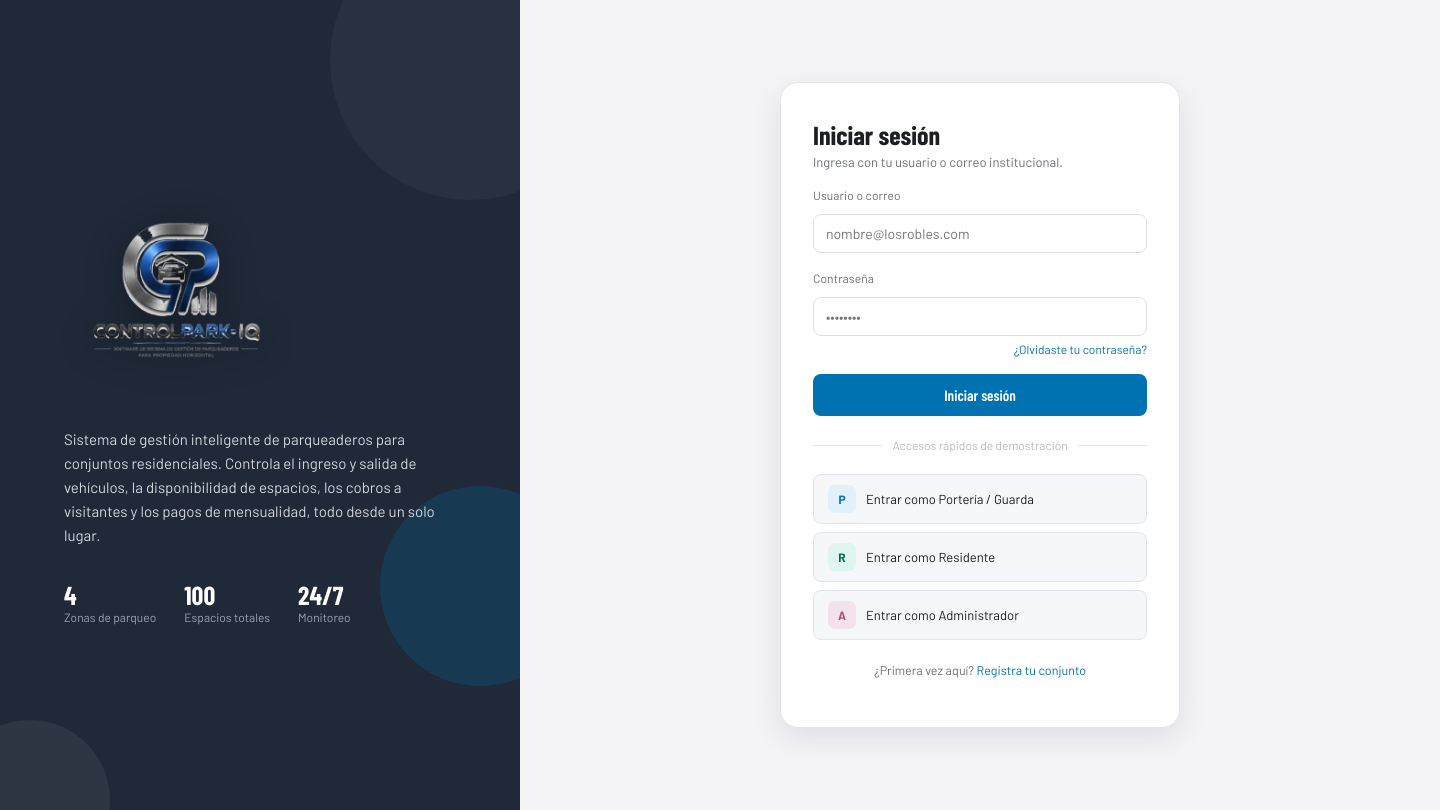
Test: acceso › entra con usuario y contraseña válidos
The image size is (1440, 810).
In the field labelled "Usuario o correo": (980, 234) [813, 214, 1147, 253], type "maria.torres"
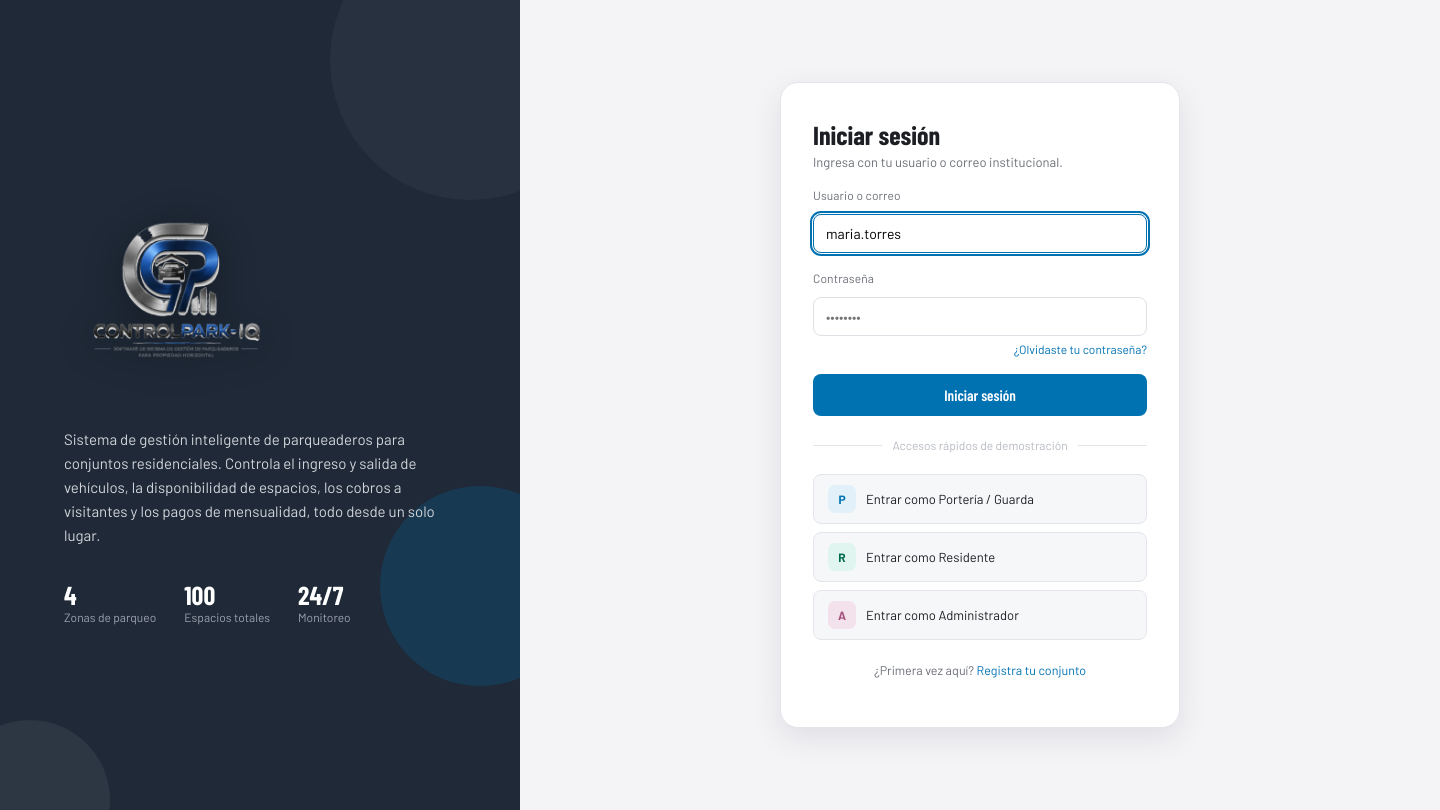
In the password field labelled "Contraseña": (980, 317) [813, 297, 1147, 336], type "demo123"
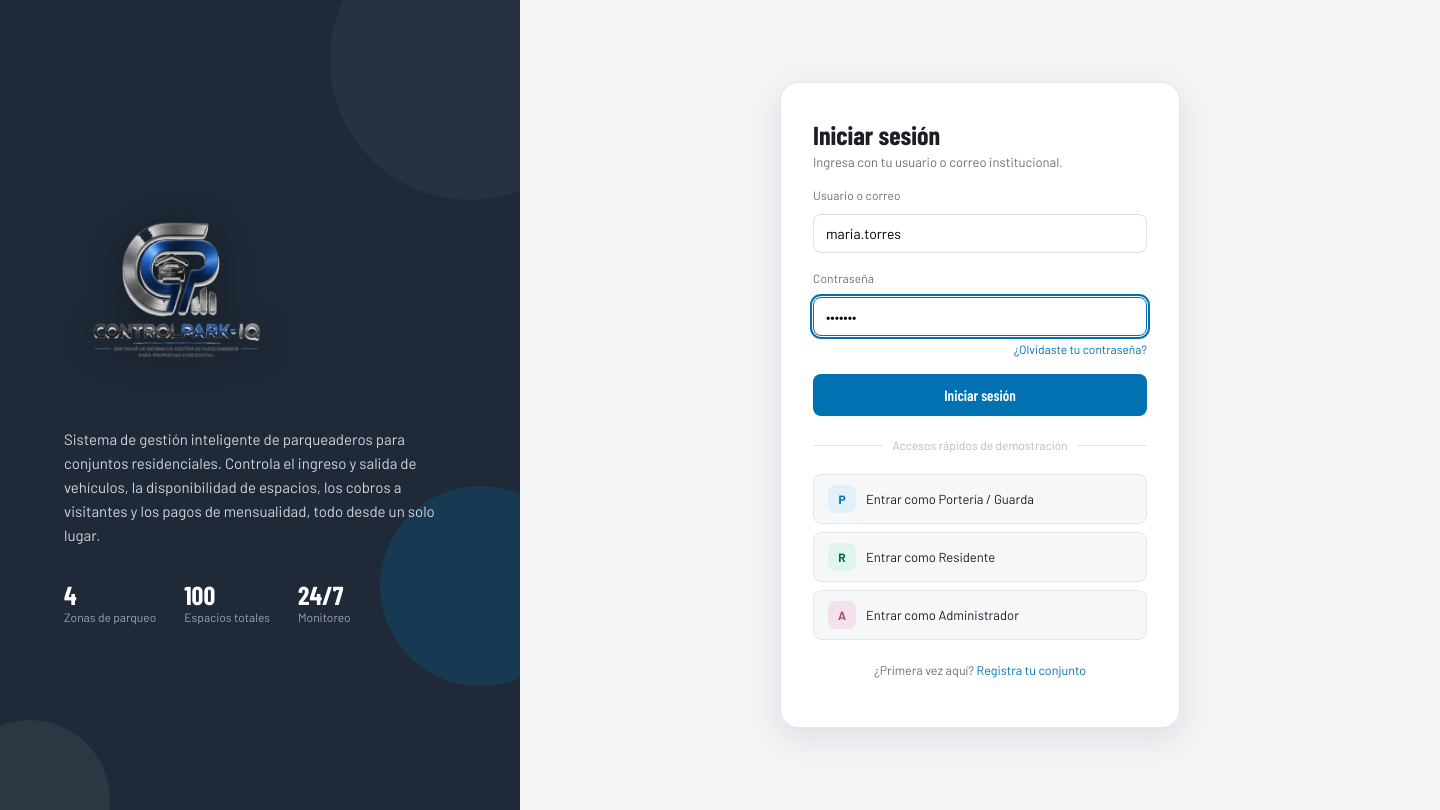
Click the button "Iniciar sesión": (980, 395) [813, 374, 1147, 416]
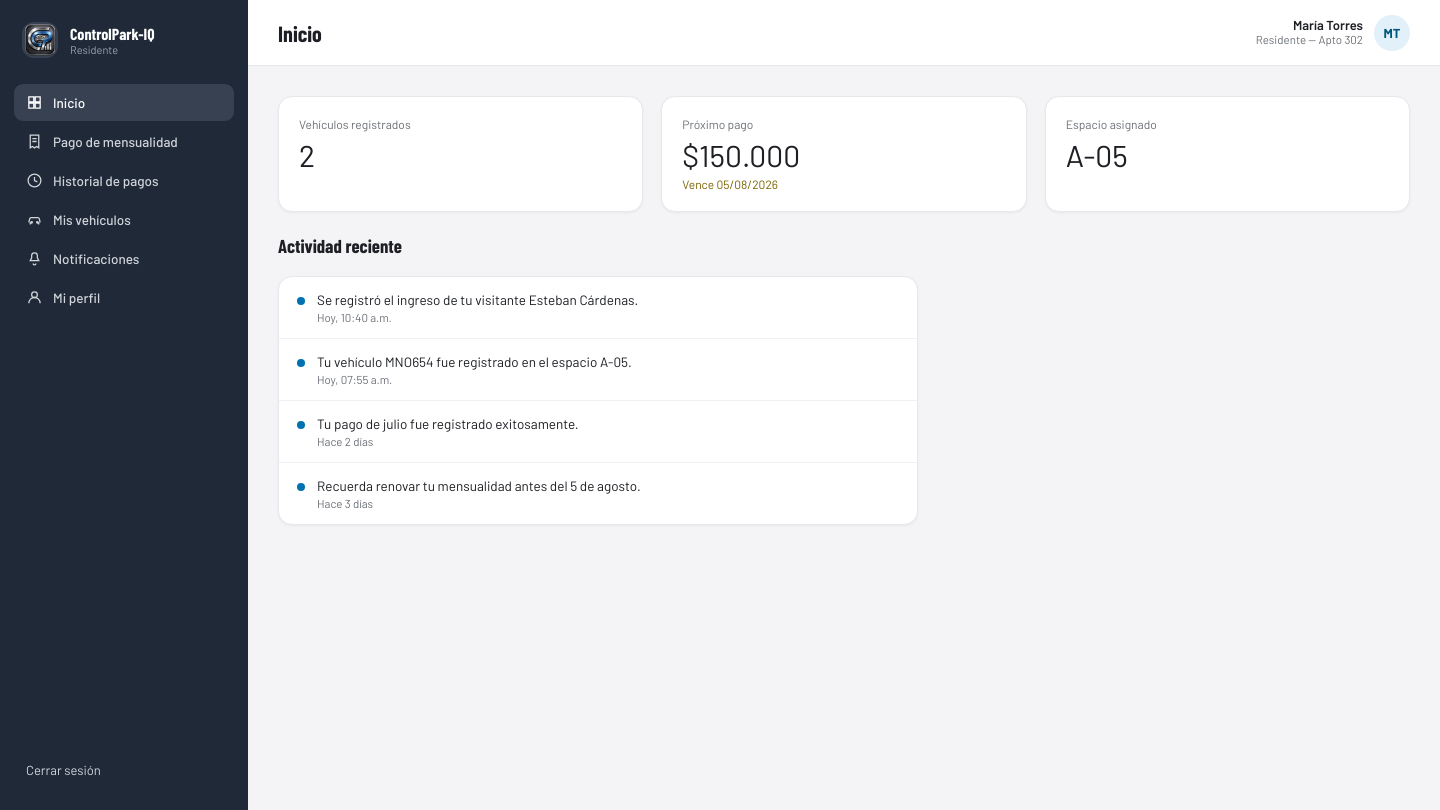
Result: the text "Vehículos registrados" is shown at [299, 117, 411, 131]
